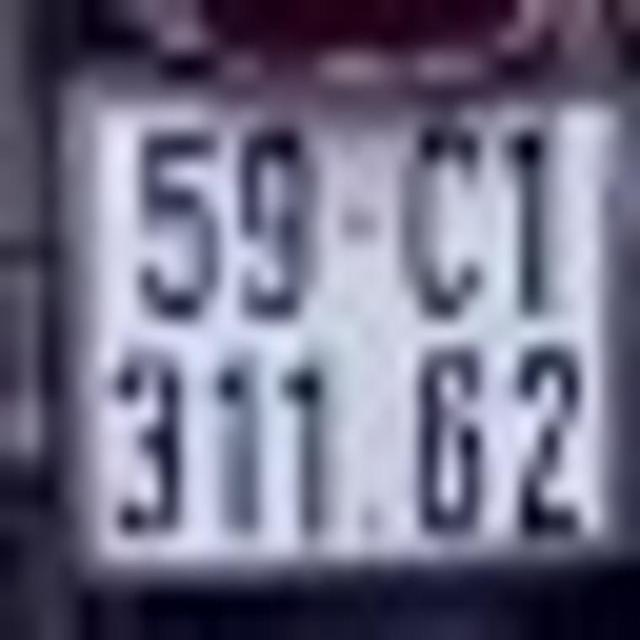1: (278, 338, 334, 536), (214, 342, 266, 540), (504, 125, 552, 318)
2: (520, 345, 586, 536)
3: (114, 350, 186, 528)
5: (136, 128, 218, 314)
6: (414, 348, 492, 542)
9: (240, 122, 308, 319)
C: (406, 120, 493, 316)
